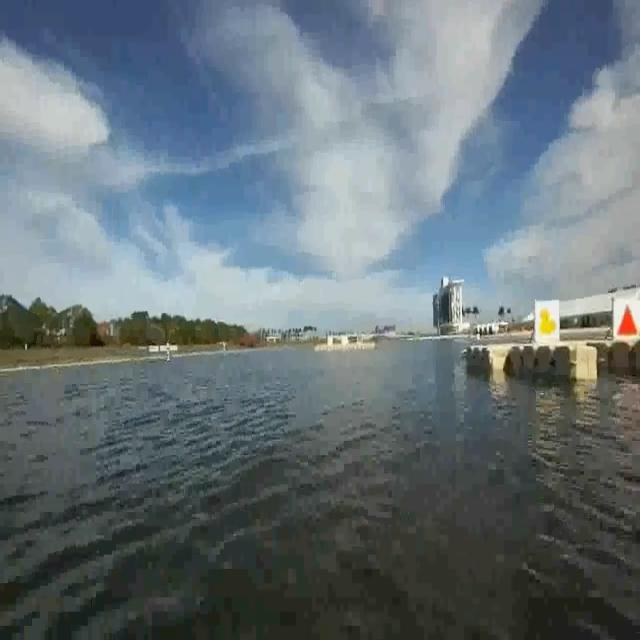red-dot: (614, 297, 638, 338)
yellow-duck: (536, 306, 554, 334)
